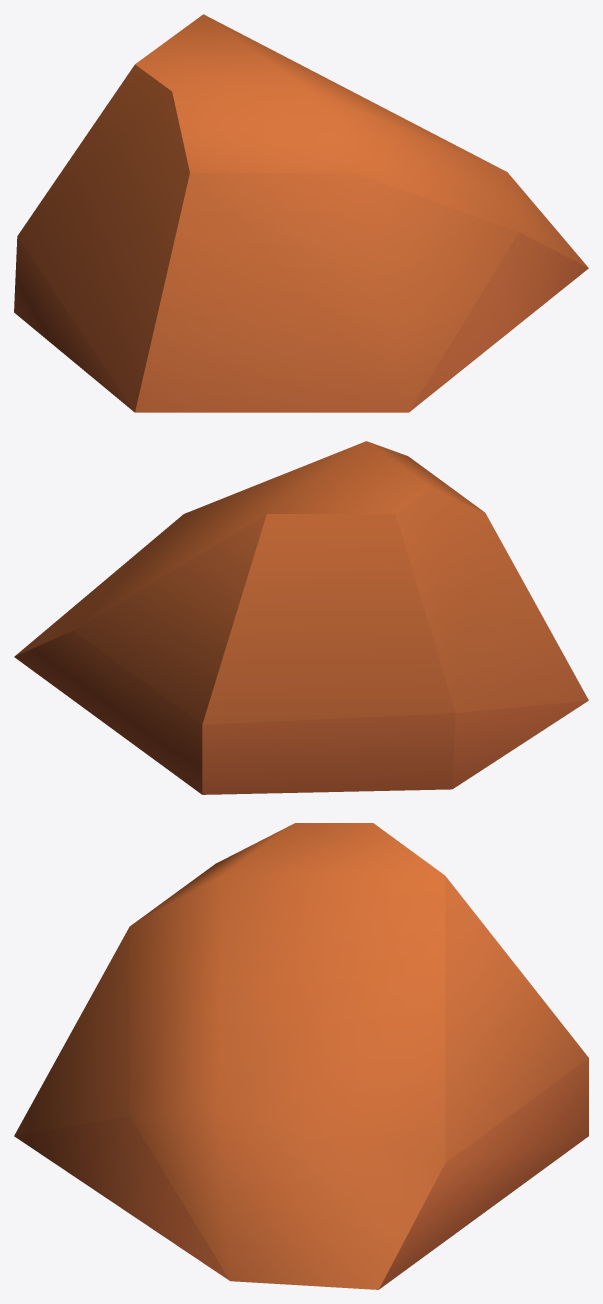
The model's file is rock_A.glb.
3 renders of one model, top to bottom at view 1: azimuth 30°, elevation 25°; view 2: azimuth 150°, elevation 25°; view 3: azimuth 270°, elevation 25°, orthographic. The views are drawn at different scales.
Parts seen in each view (by area): view 1: rock_A; view 2: rock_A; view 3: rock_A.
Boxes of the visible parts, x1,y1,x2,y2 form: rock_A: [14, 14, 588, 412]; rock_A: [14, 441, 588, 794]; rock_A: [14, 823, 588, 1289].
Size of the model in its own units: 0.533 by 0.25 by 0.5.
Materials: 1 (1 with a texture image).
